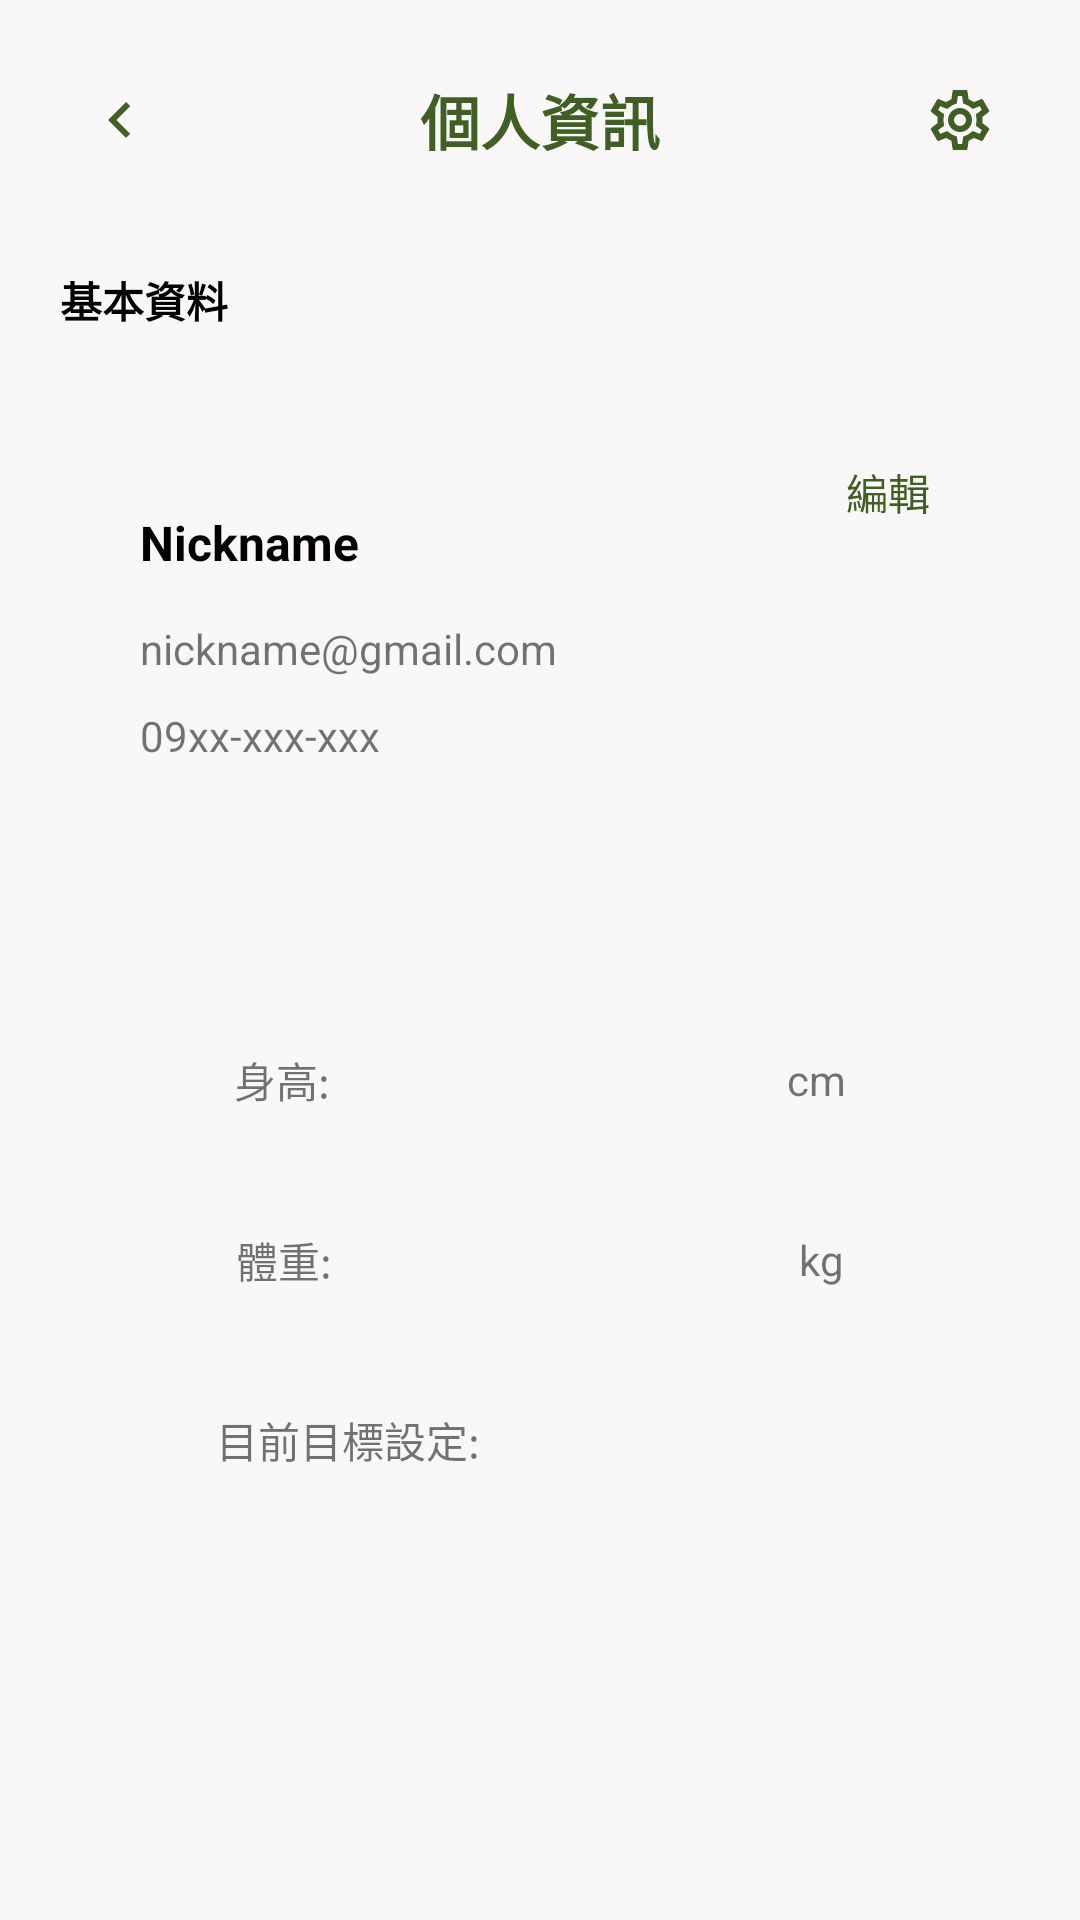

Named icons in this screenshot (1080 x 1920) and their centers, point (x, y):
keyboard arrow left: point (119, 120)
settings: point (959, 120)
